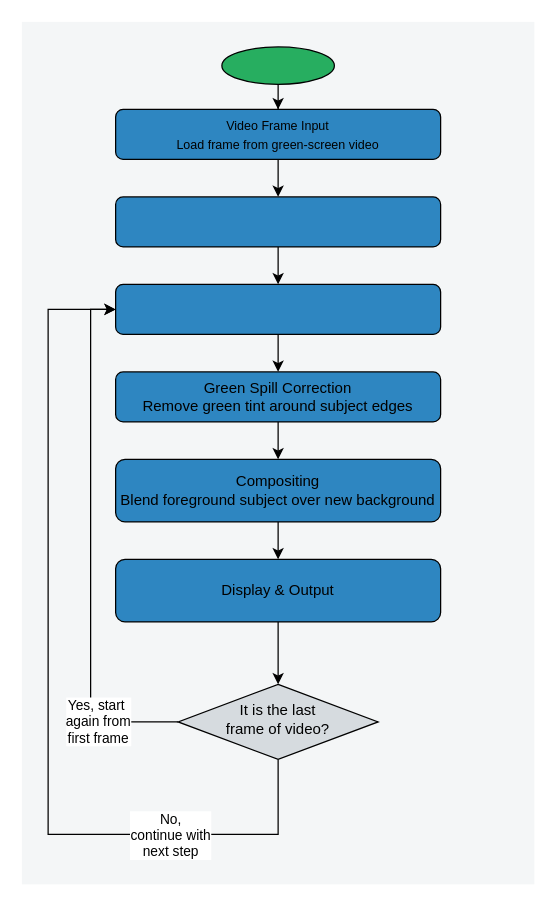
This 555x905 diagram has some shape labels left out. Here are the shapes that lost their labels. From the top down, the centre of each, then its label:
the point at 277,65: Start
the point at 277,221: Key Color Selection User clicks on green area to sample color
the point at 277,308: Mask Generation Detect areas matching the sampled key color
